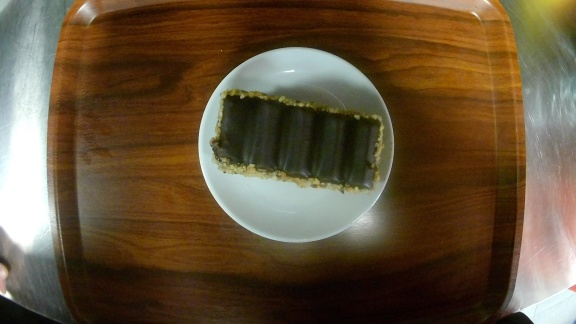muzlupasta: (197, 46, 395, 242)
